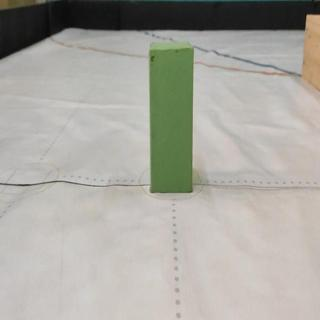greenbox: (149, 41, 192, 195)
